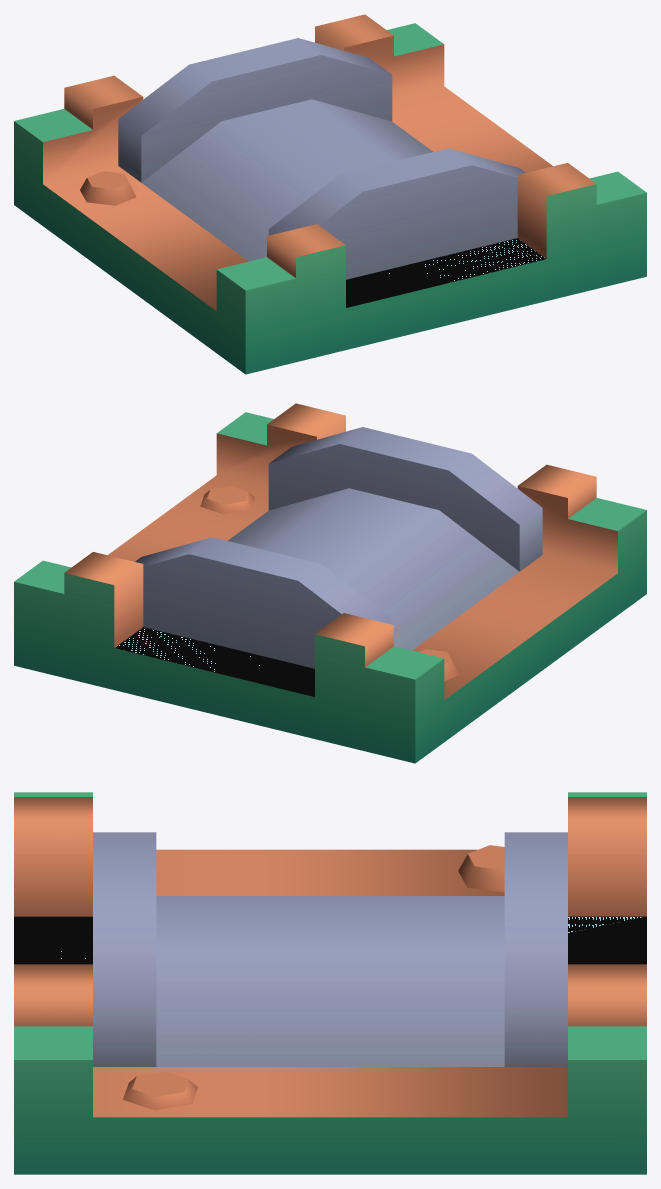
The model's file is kenney-tower-defense-tile-river-bridge.glb.
The picture shows the model from 3 angles, top to bottom: view 1: azimuth 30°, elevation 25°; view 2: azimuth 150°, elevation 25°; view 3: azimuth 270°, elevation 25°; orthographic projection. The views are drawn at different scales.
Parts seen in each view (by area): view 1: tile-river-bridge; view 2: tile-river-bridge; view 3: tile-river-bridge.
Part boxes in pixels (<box>): tile-river-bridge: <box>14,14,646,374</box>; tile-river-bridge: <box>14,403,646,763</box>; tile-river-bridge: <box>14,792,646,1174</box>.
Size of the model in its own units: 1 by 0.3 by 1.
1 material, 1 textured.
